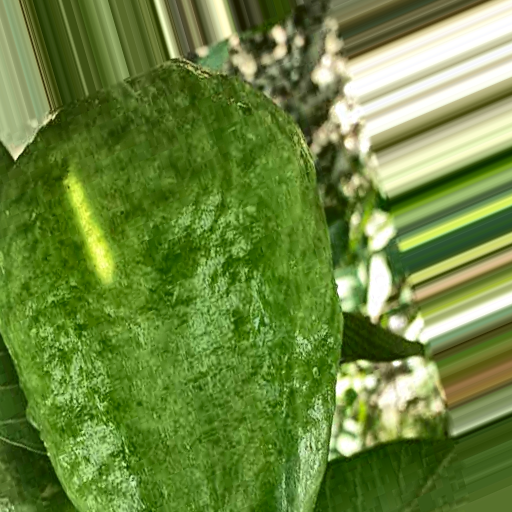guava: (93, 80, 512, 512)
